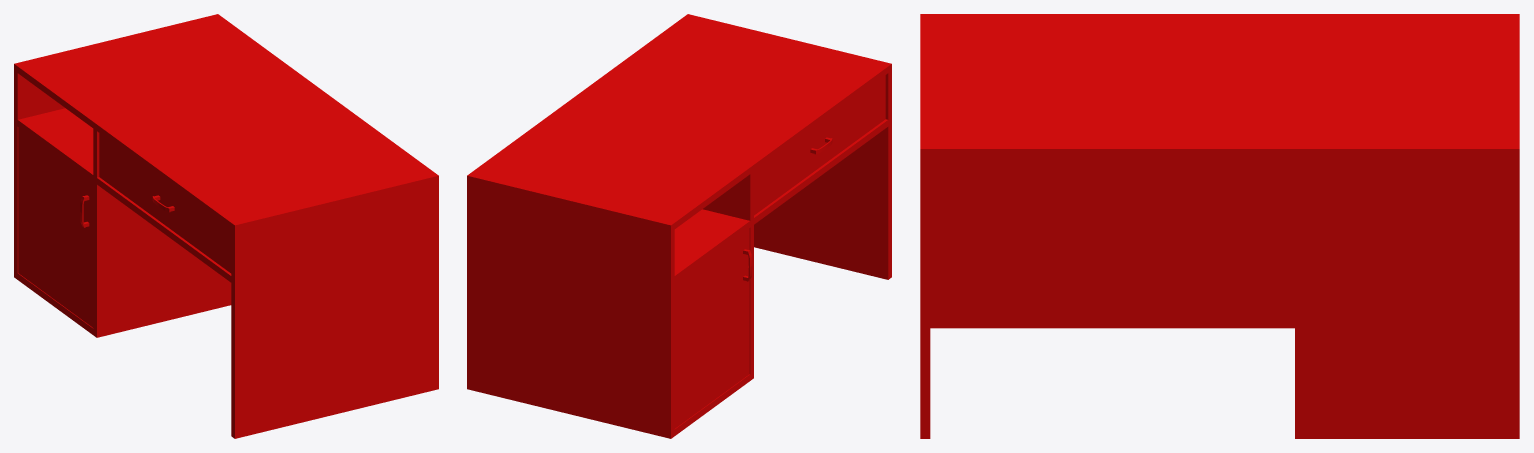
The model's file is u2_table.fbx.
3 views of the same model, side by side, from view 1: azimuth 30°, elevation 25°; view 2: azimuth 150°, elevation 25°; view 3: azimuth 270°, elevation 25° (orthographic). The views are drawn at different scales.
Parts seen in each view (by area): view 1: table_low.001, table door1_low.001, table box1_low.001; view 2: table_low.001, table door1_low.001, table box1_low.001; view 3: table_low.001.
Part boxes in pixels (x1,y1,x2,y2): table_low.001: (14, 14, 438, 438); table door1_low.001: (18, 127, 93, 327); table box1_low.001: (99, 133, 231, 273); table_low.001: (467, 14, 891, 438); table door1_low.001: (674, 228, 749, 428); table box1_low.001: (754, 75, 885, 215); table_low.001: (920, 14, 1519, 438).
Size of the model in its own units: 82.55 by 80 by 150.
